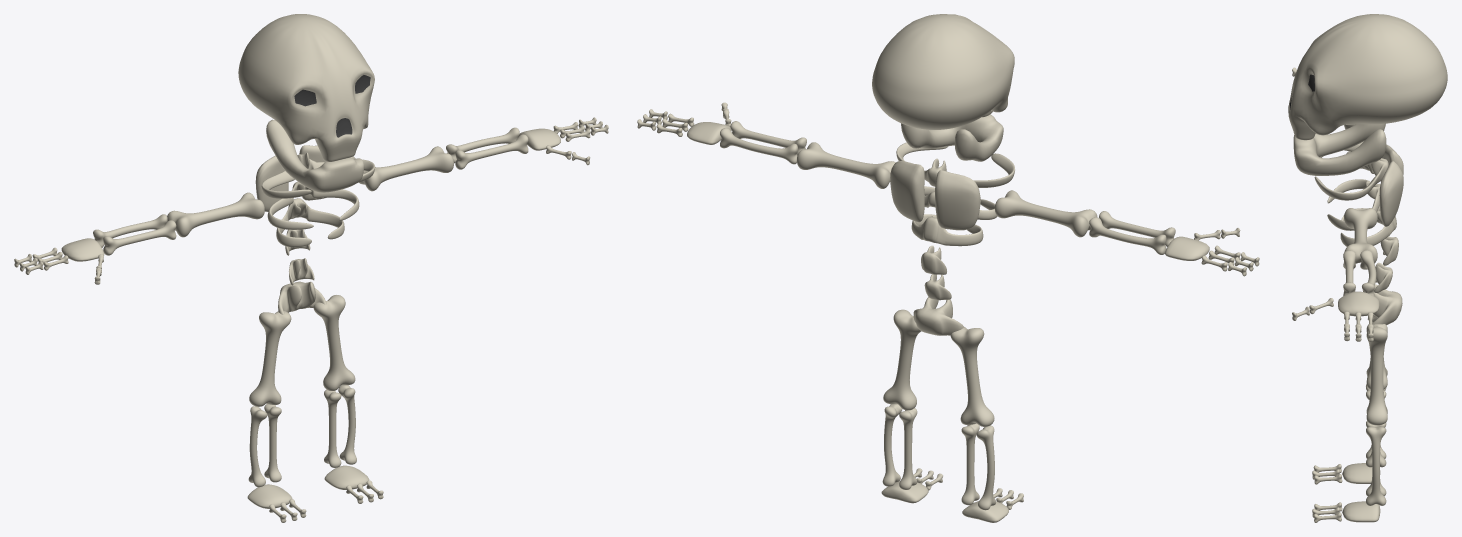
Rendered from ESQUELETO.fbx.
The picture shows the model from 3 angles, left to right: view 1: azimuth 30°, elevation 25°; view 2: azimuth 150°, elevation 25°; view 3: azimuth 270°, elevation 25°; orthographic projection. The views are drawn at different scales.
Parts seen in each view (by area): view 1: esqueleto; view 2: esqueleto; view 3: esqueleto.
Boxes of the visible parts, x1=… form: esqueleto: x1=14, y1=14, x2=608, y2=522; esqueleto: x1=637, y1=14, x2=1259, y2=522; esqueleto: x1=1288, y1=14, x2=1447, y2=522.
Size of the model in its own units: 109 by 83.99 by 25.3.
